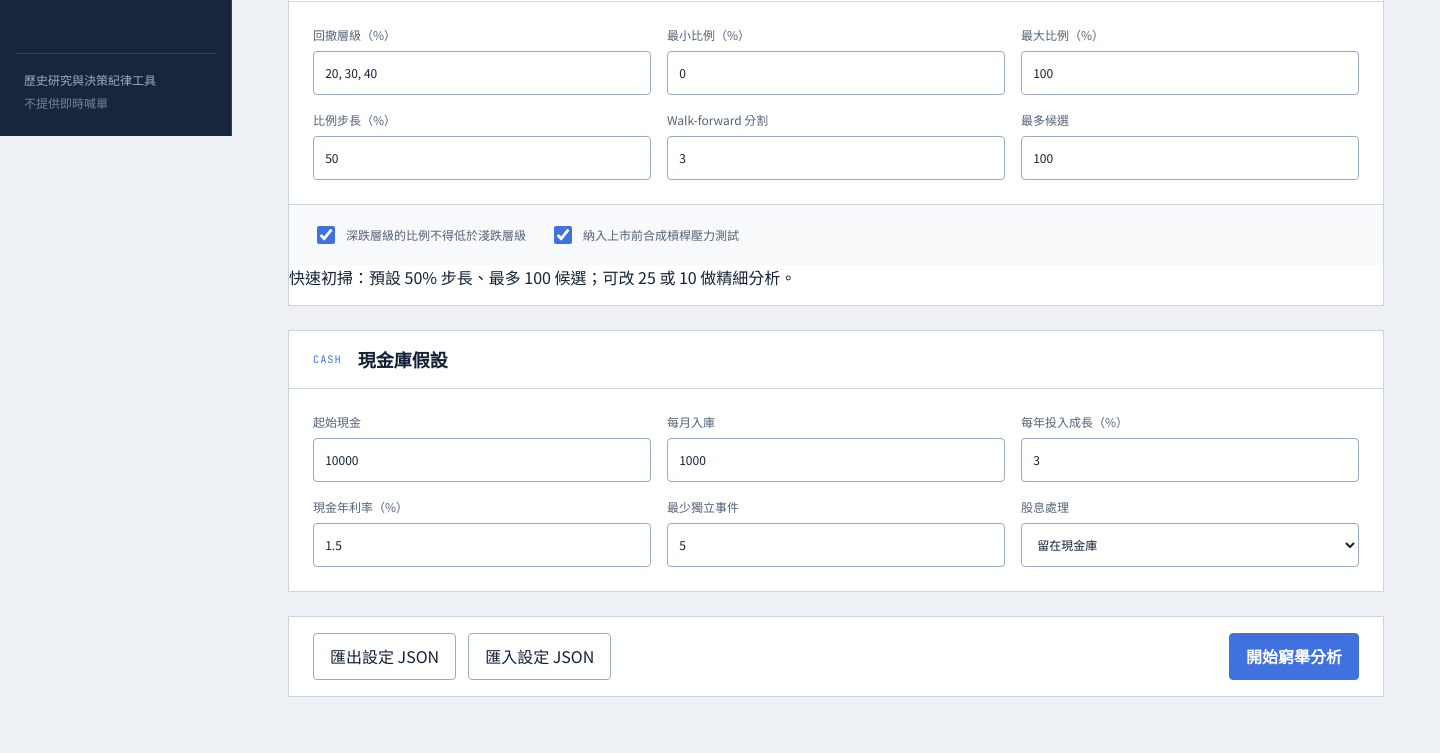
Test: AI-operable optimization workbench › shows the API detail when a new optimization cannot be created
(page scrolled)
Step 1. Click the button "開始窮舉分析" → (1294, 656), box [1229, 633, 1359, 680]
(page scrolled)
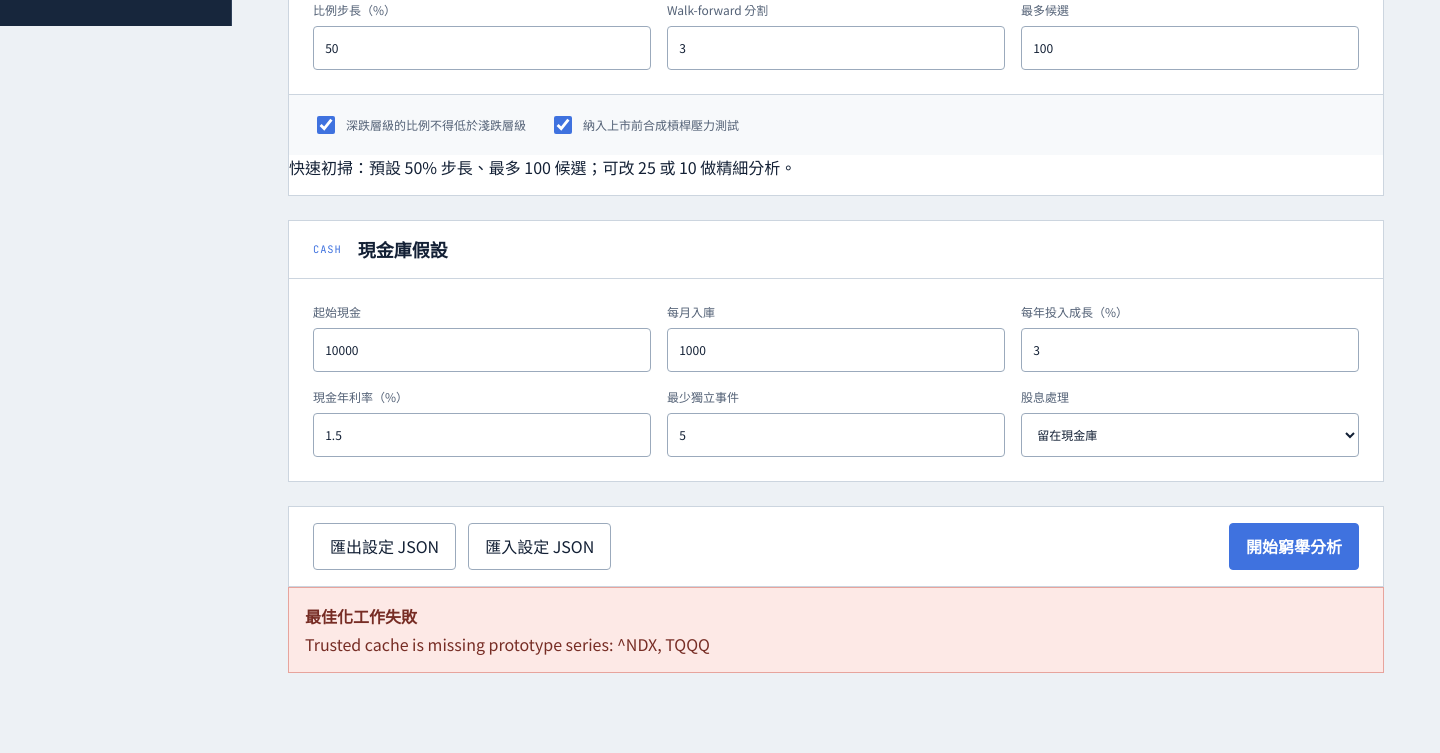
Now the text "Trusted cache is missing prototype series: ^NDX, TQQQ" is shown, box [305, 632, 710, 656]
